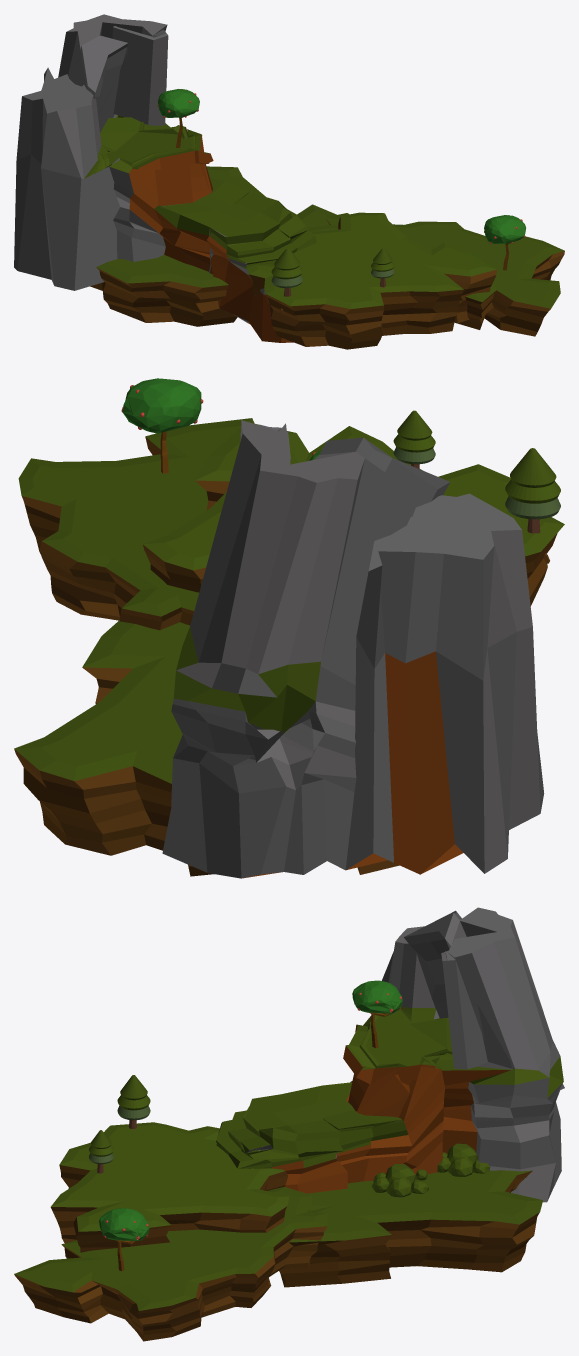
Rendered from klify.fbx.
3 renders of one model, top to bottom at view 1: azimuth 30°, elevation 25°; view 2: azimuth 150°, elevation 25°; view 3: azimuth 270°, elevation 25°, orthographic. The views are drawn at different scales.
Parts seen in each view (by area): view 1: Plane.001, Plane.002, Plane, Plane.003, Icosphere.008, Icosphere.002; view 2: Plane.001, Plane.003, Plane, Plane.002, Icosphere.002, Cylinder.002, Cylinder.001, Cylinder, Cylinder.003; view 3: Plane.001, Plane, Plane.003, Plane.002, Icosphere.010, Icosphere.008, Icosphere.002, Icosphere.001.
Boxes of the visible parts, x1,y1,x2,y2 form: Plane.001: (14, 14, 316, 342); Plane.002: (247, 212, 496, 349); Plane: (307, 213, 564, 336); Plane.003: (90, 166, 336, 326); Icosphere.008: (157, 89, 199, 118); Icosphere.002: (484, 215, 525, 244); Plane.001: (162, 420, 544, 878); Plane.003: (14, 620, 399, 876); Plane: (18, 418, 254, 630); Plane.002: (143, 423, 564, 606); Icosphere.002: (121, 378, 203, 433); Cylinder.002: (510, 448, 556, 487); Cylinder.001: (505, 479, 560, 503); Cylinder: (505, 496, 560, 519); Cylinder.003: (397, 410, 432, 440); Plane.001: (216, 907, 564, 1202); Plane: (14, 1187, 327, 1341); Plane.003: (279, 1170, 542, 1287); Plane.002: (50, 1122, 289, 1252); Icosphere.010: (371, 1164, 428, 1197); Icosphere.008: (352, 980, 402, 1013); Icosphere.002: (99, 1208, 149, 1240); Icosphere.001: (437, 1143, 490, 1176).
Bounding box in the file's own units: 324 × 183 × 335.
